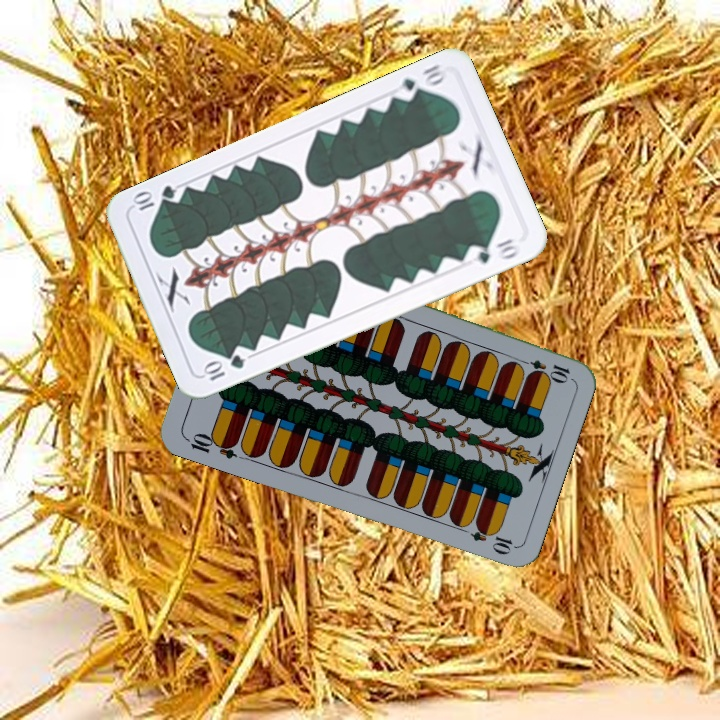E10: (181, 428, 240, 462), (514, 354, 573, 383)
G10: (395, 59, 447, 104), (199, 350, 248, 384)
